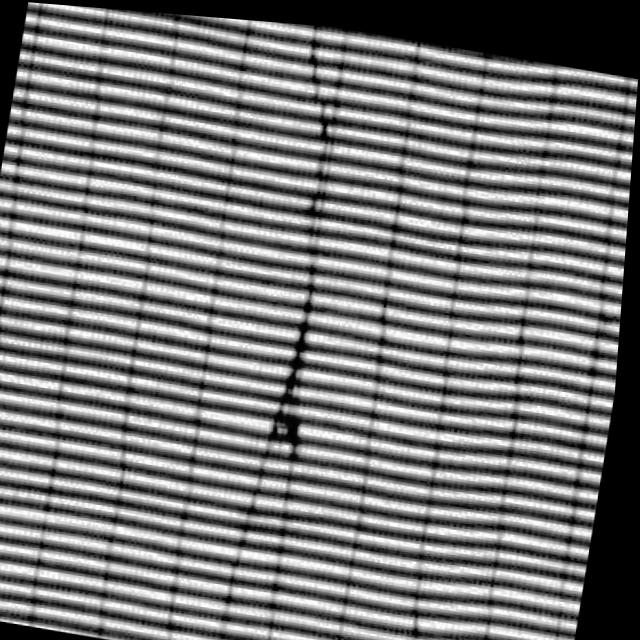Stitch: (226, 183, 374, 498)
